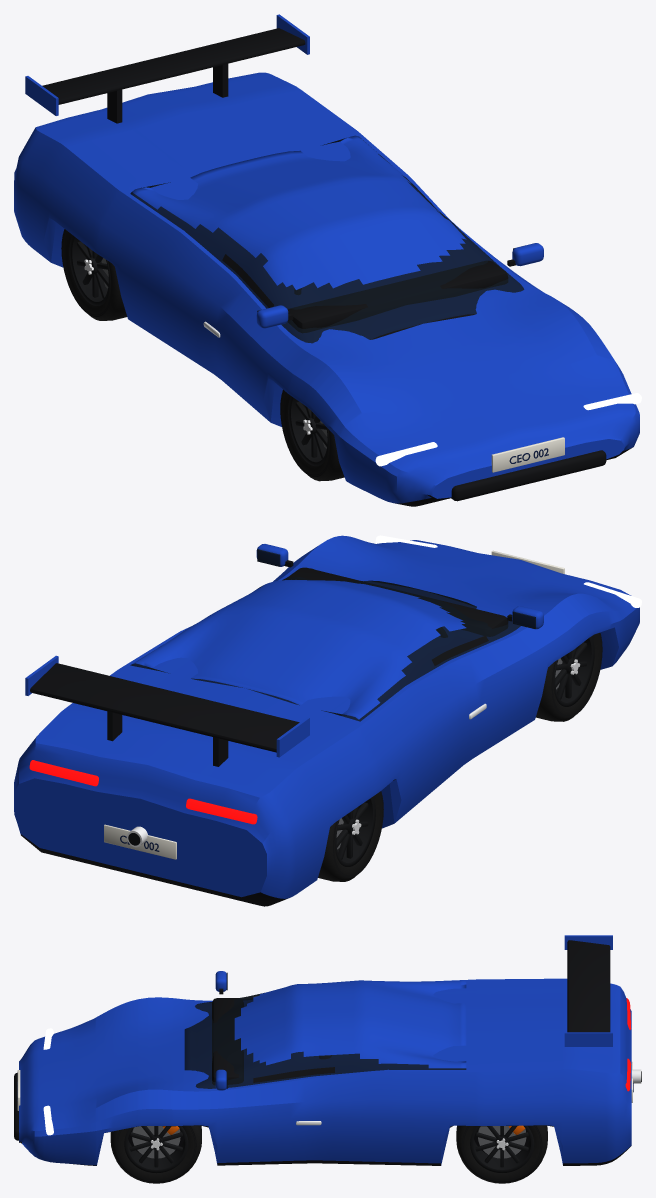
File: toro_azul.glb
3 views of the same model, one above another, from view 1: azimuth 30°, elevation 25°; view 2: azimuth 150°, elevation 25°; view 3: azimuth 270°, elevation 25° (orthographic). The views are drawn at different scales.
Parts seen in each view (by area): view 1: body, wheel_RL, wheel_FL; view 2: body, wheel_FL, wheel_RL; view 3: body, wheel_RR, wheel_FR.
Part boxes in pixels (bbox=[...]): body: bbox=[14, 14, 641, 506]; wheel_RL: bbox=[61, 229, 127, 320]; wheel_FL: bbox=[280, 389, 344, 481]; body: bbox=[14, 535, 641, 906]; wheel_FL: bbox=[535, 632, 602, 721]; wheel_RL: bbox=[318, 791, 383, 881]; body: bbox=[14, 935, 641, 1165]; wheel_RR: bbox=[456, 1125, 547, 1183]; wheel_FR: bbox=[110, 1125, 201, 1183].
Size of the model in its own units: 2.05 by 1.3 by 4.94.
